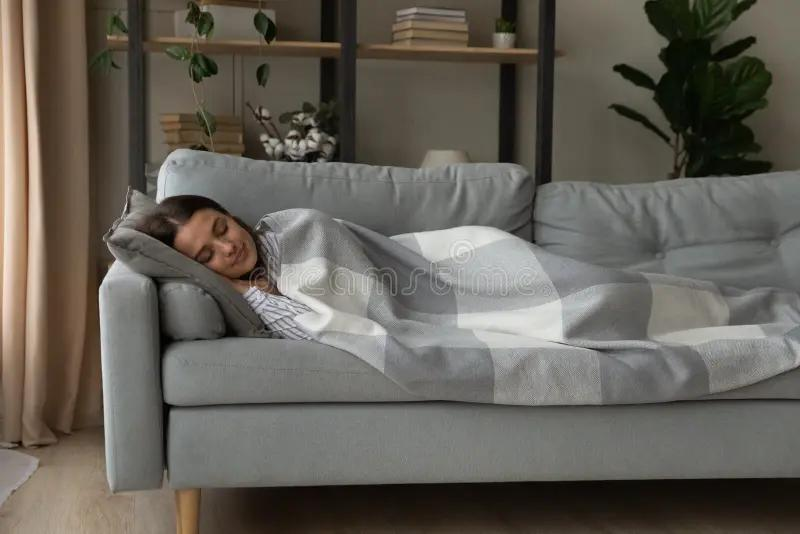blanket: (254, 206, 800, 409)
